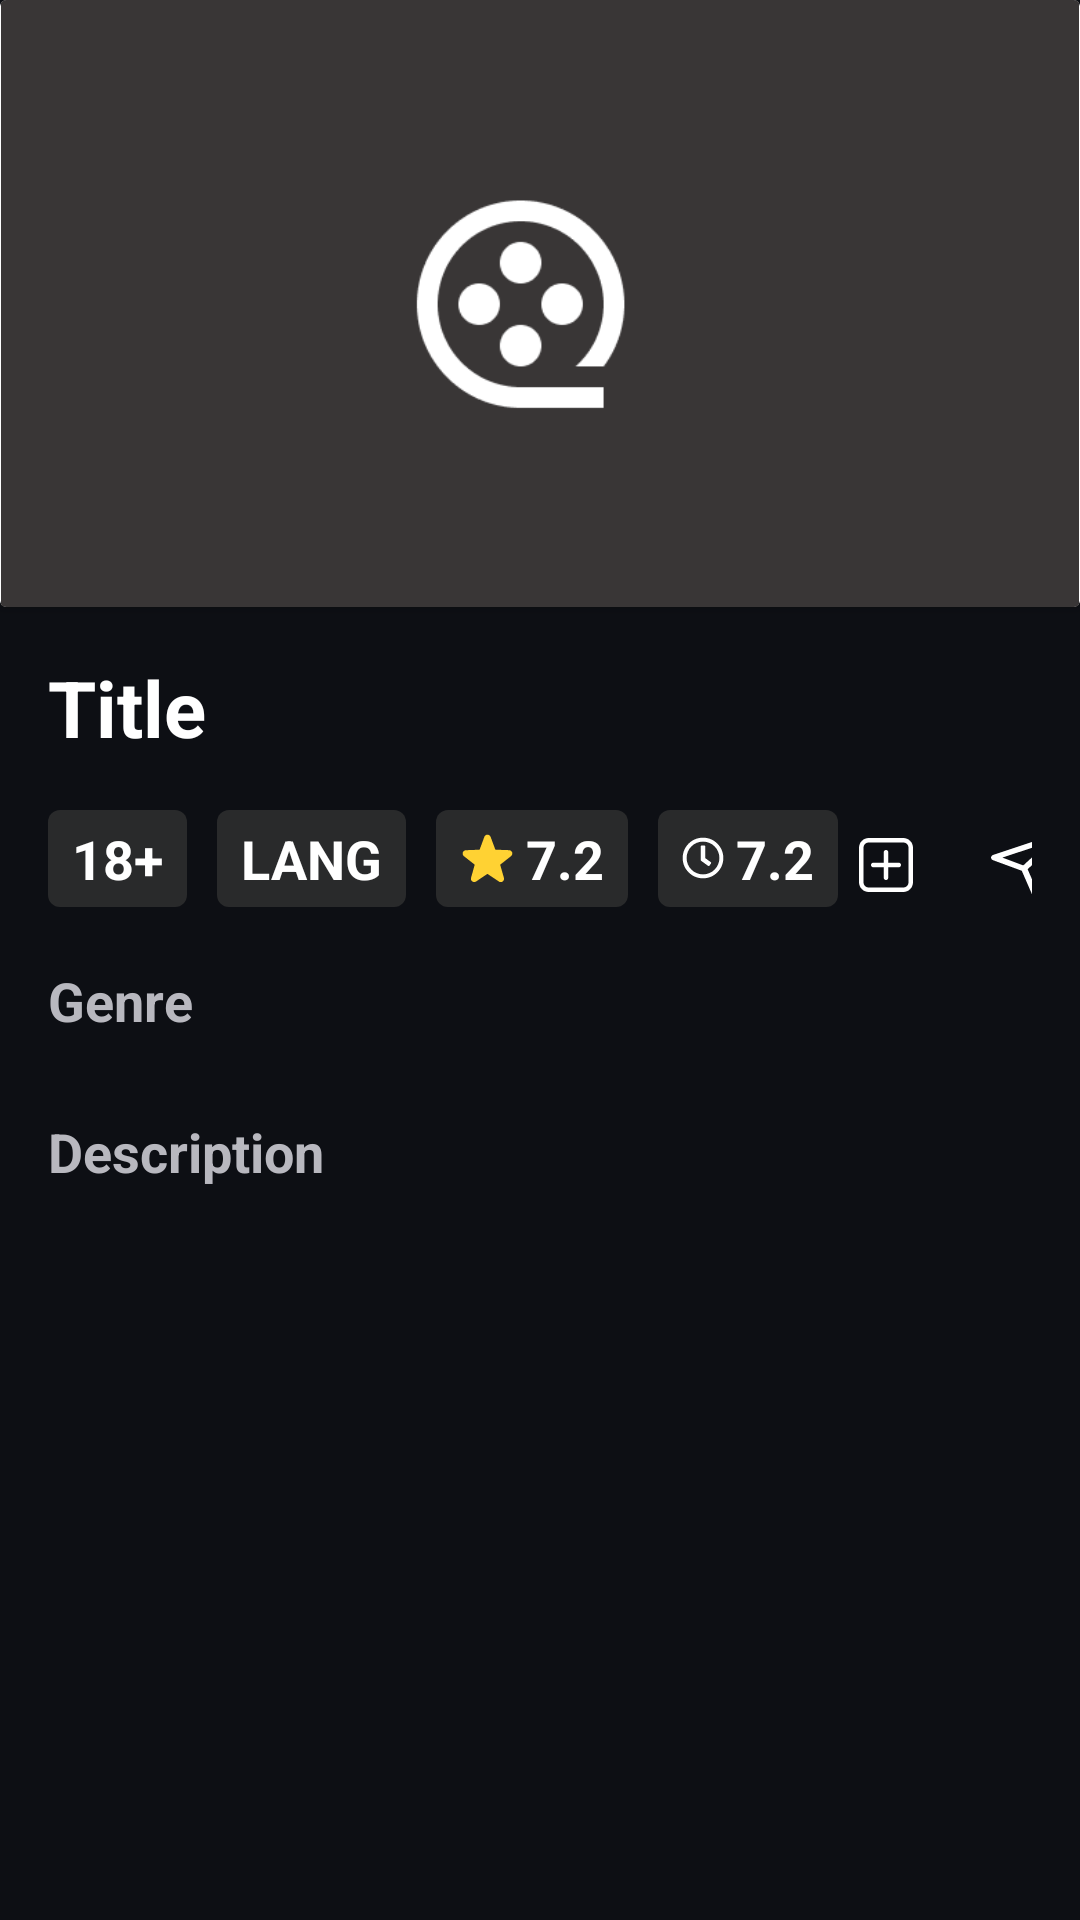

Screen size 1080×1920. Icon name, then its center in pixels as (x,y):
fluent add square: (886,865)
